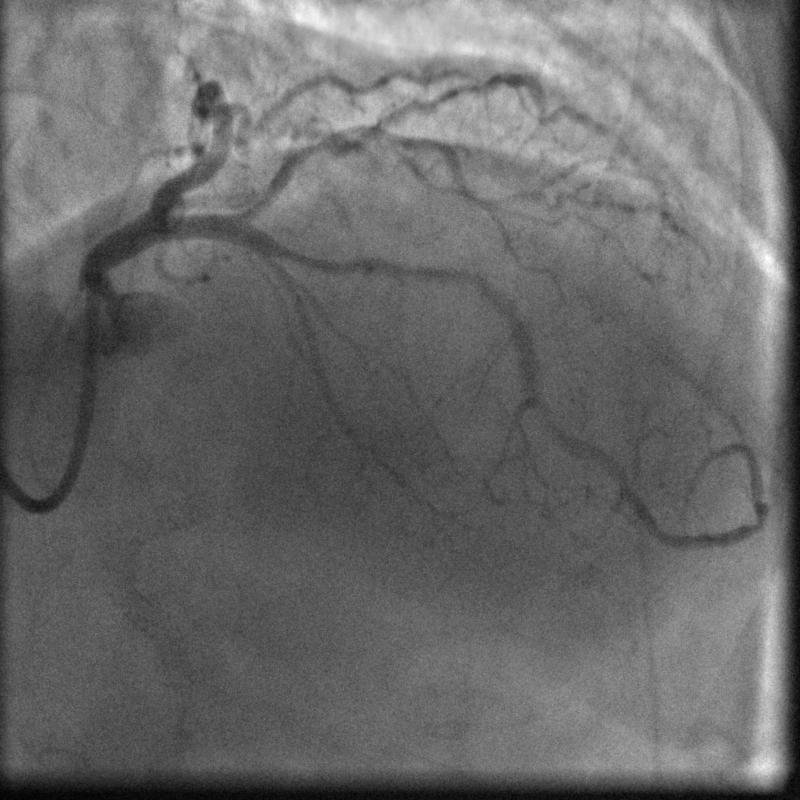Stenosis: (287, 238, 338, 278)
